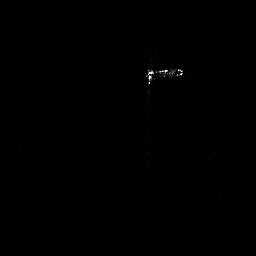ship: (143, 64, 186, 87)
